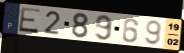2: (44, 10, 62, 36)
6: (121, 17, 140, 44)
8: (71, 12, 90, 39)
9: (95, 14, 114, 42), (144, 19, 163, 46)
E: (18, 7, 43, 35)
